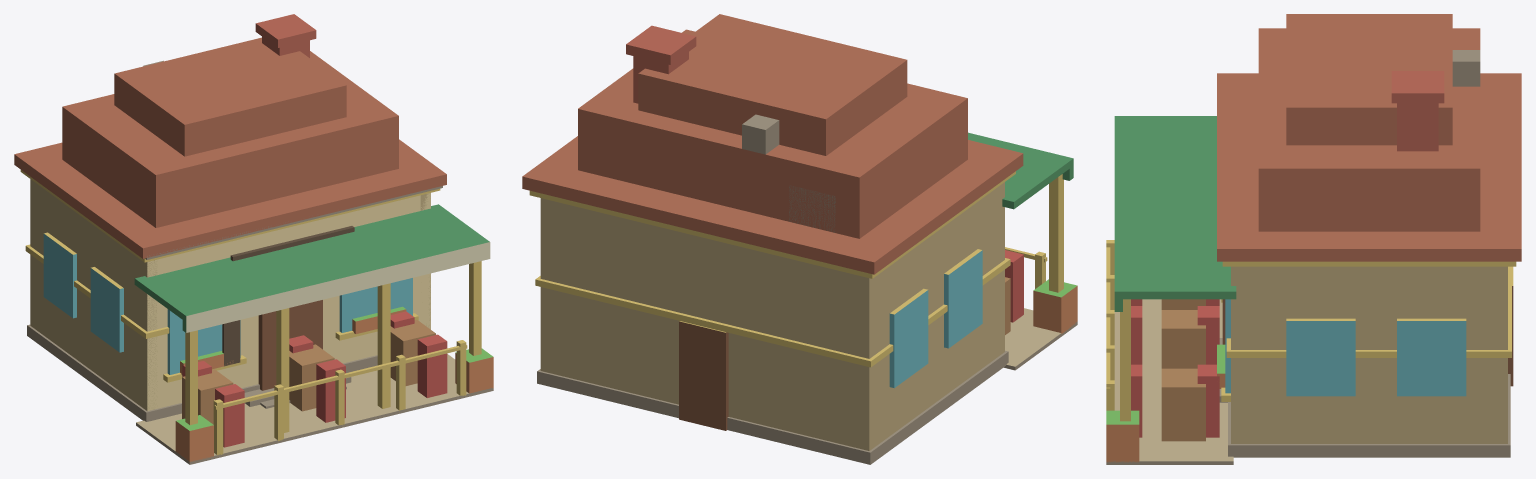
File: Cafe.fbx
The picture shows the model from 3 angles, left to right: view 1: azimuth 30°, elevation 25°; view 2: azimuth 150°, elevation 25°; view 3: azimuth 270°, elevation 25°; orthographic projection. The views are drawn at different scales.
Visible parts, largest first — view 1: Cafe; view 2: Cafe; view 3: Cafe.
Boxes of the visible parts, x1,y1,x2,y2 form: Cafe: (14, 14, 493, 464); Cafe: (522, 14, 1077, 464); Cafe: (1106, 14, 1521, 464).
Size of the model in its own units: 1500 by 1350 by 1500.
